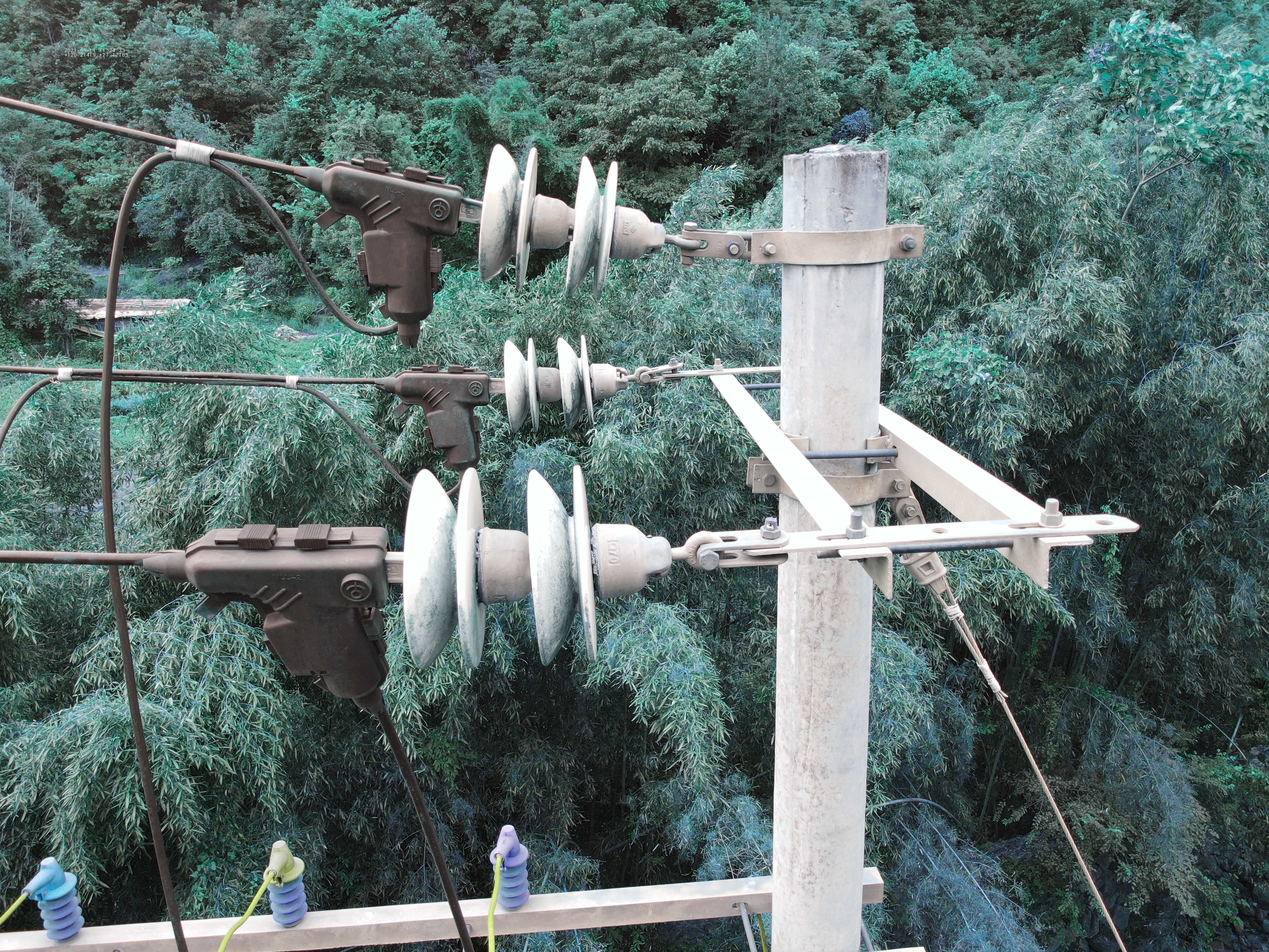severe_soiling_no_discharge_whole: (393, 462, 683, 671), (477, 137, 674, 303), (499, 332, 631, 436)
